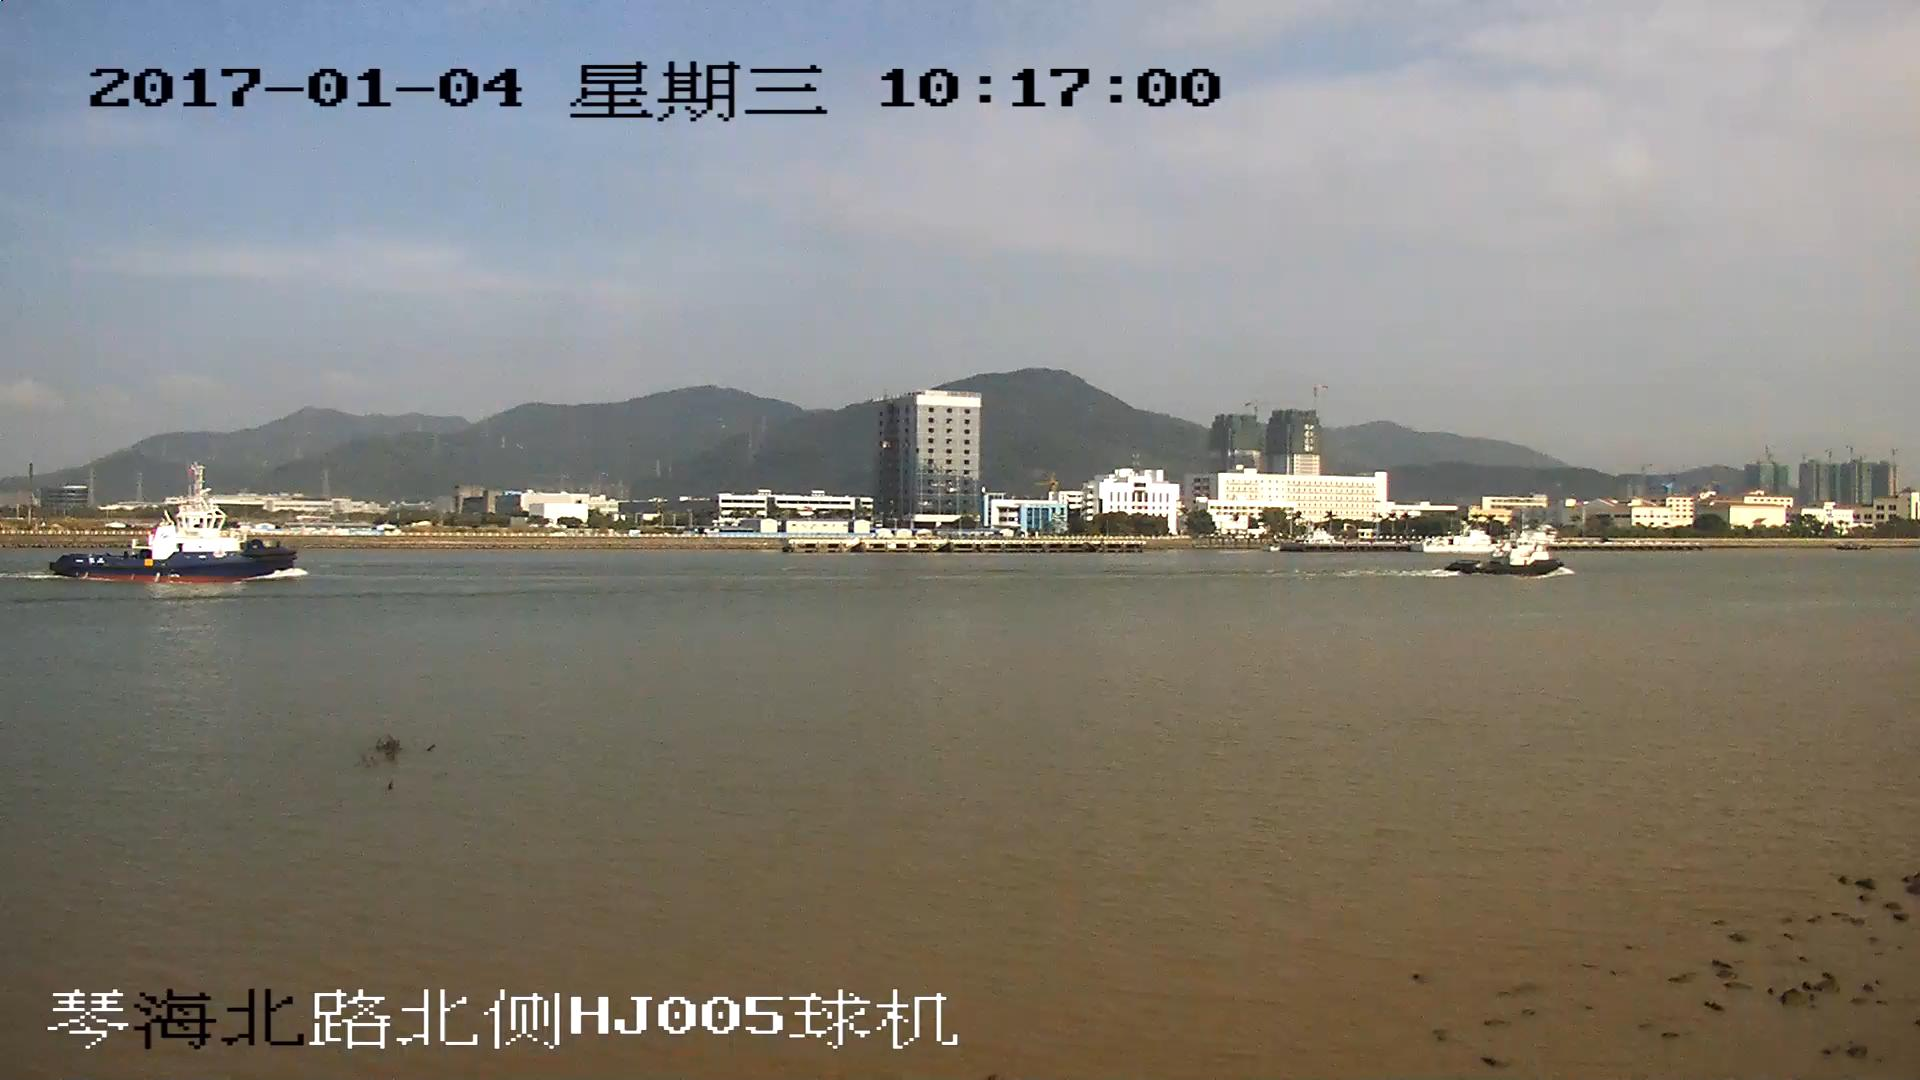fishing boat: (50, 473, 301, 578), (1465, 530, 1563, 575)
